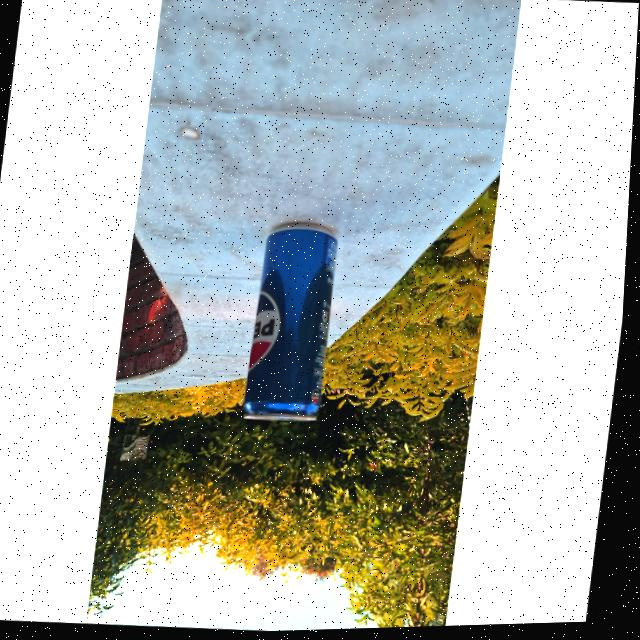Pepsi: (242, 227, 340, 431)
